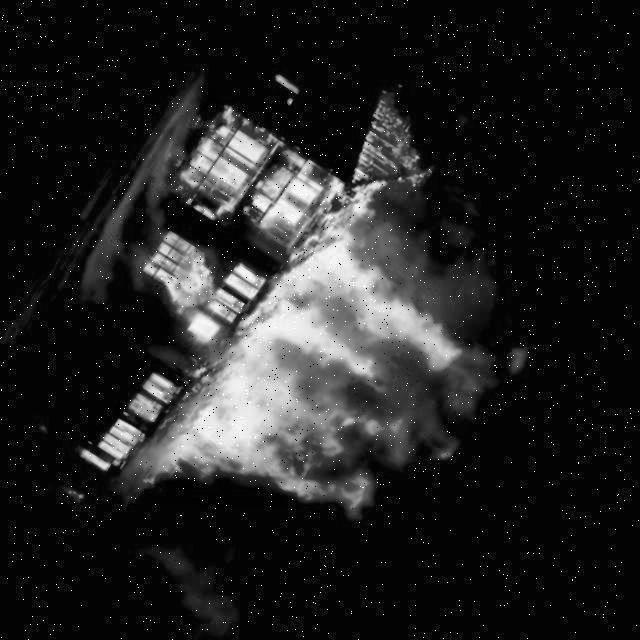Fire: (157, 177, 534, 577), (130, 214, 244, 319), (243, 143, 337, 242), (192, 108, 277, 195), (130, 367, 189, 426), (99, 415, 153, 468), (204, 280, 254, 325), (228, 258, 272, 299), (189, 311, 225, 344)
